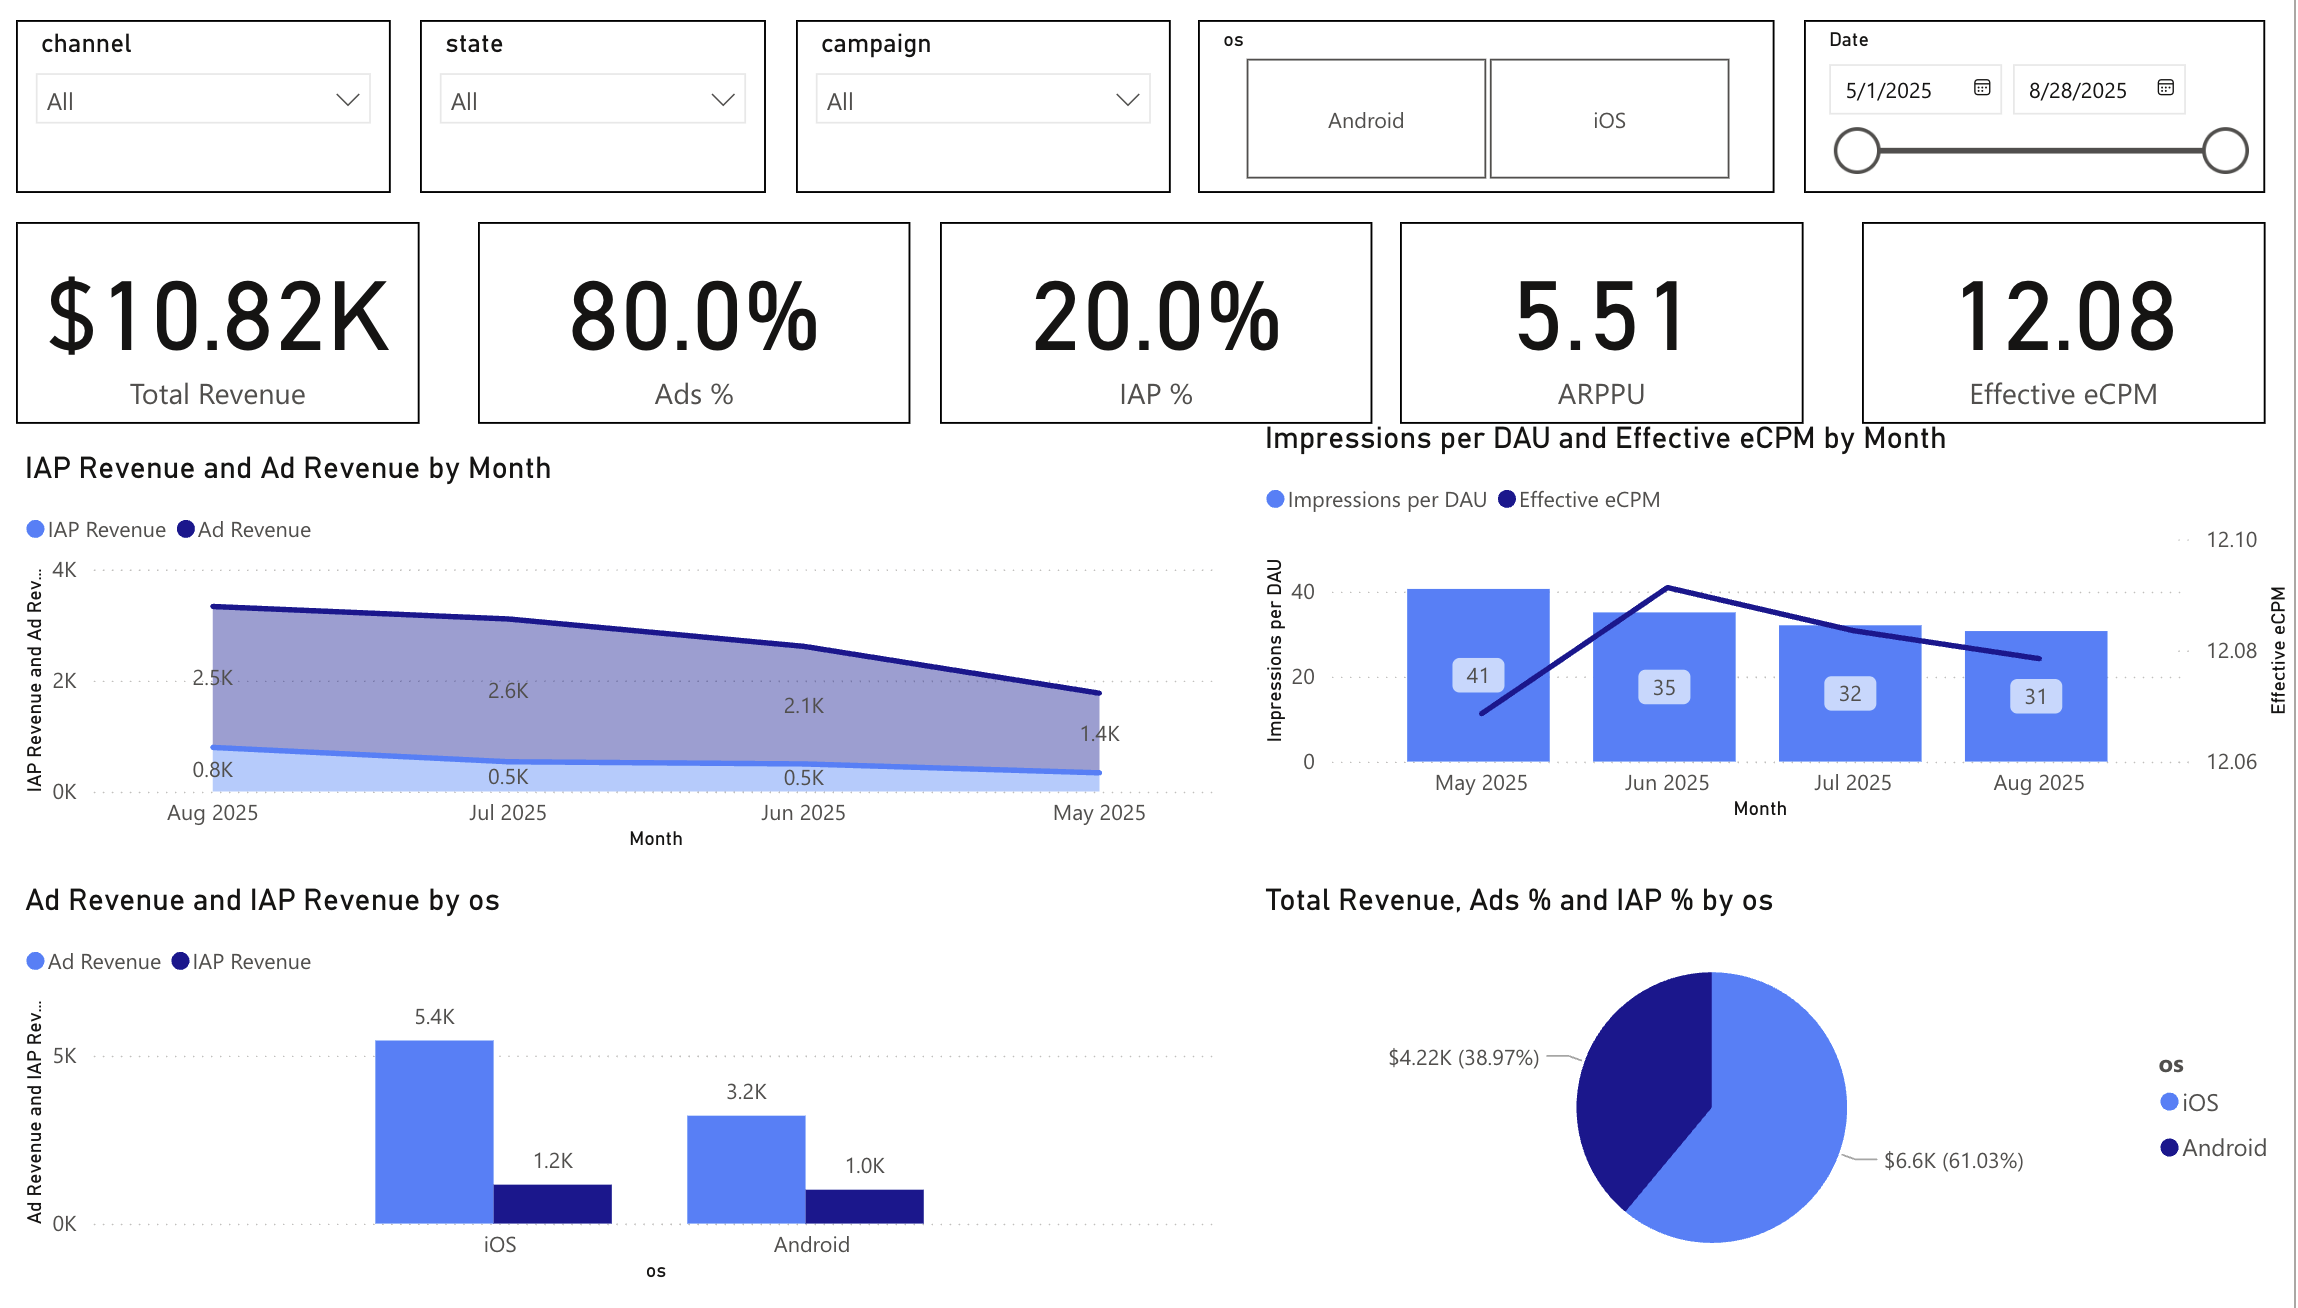

What the dashboard file says about the page in this screenshot:
{"tool":"powerbi","page":{"name":"Monetization","canvas":[1280,720],"ordinal":5},"visuals":[{"type":"slicer","fields":{"Values":["Date.Date"]},"box":[1008,16,256,96],"z":0},{"type":"slicer","fields":{"Values":["users.os"]},"box":[672,16,320,96],"z":1000},{"type":"slicer","fields":{"Values":["users.state"]},"box":[240,16,192,96],"z":2000},{"type":"slicer","fields":{"Values":["users.channel"]},"box":[16,16,208,96],"z":3000},{"type":"slicer","fields":{"Values":["users.campaign"]},"box":[448,16,208,96],"z":4000},{"type":"card","fields":{"Values":["measure.Total Revenue"]},"box":[16,128,224,112],"z":5000},{"type":"stackedAreaChart","fields":{"Y":["measure.IAP Revenue","measure.Ad Revenue"],"Category":["Date.Month"]},"box":[16,256,672,224],"z":6000},{"type":"clusteredColumnChart","fields":{"Category":["users.os"],"Y":["measure.Ad Revenue","measure.IAP Revenue"]},"box":[16,496,672,224],"z":7000},{"type":"lineStackedColumnComboChart","fields":{"Y":["measure.Impressions per DAU"],"Category":["Date.Month"],"Y2":["measure.Effective eCPM"]},"box":[704,240,576,224],"z":8000},{"type":"card","fields":{"Values":["measure.Ads %"]},"box":[272,128,240,112],"z":9000},{"type":"card","fields":{"Values":["measure.IAP %"]},"box":[528,128,240,112],"z":10000},{"type":"card","fields":{"Values":["measure.ARPPU"]},"box":[784,128,224,112],"z":11000},{"type":"card","fields":{"Values":["measure.Effective eCPM"]},"box":[1040,128,224,112],"z":12000},{"type":"pieChart","fields":{"Y":["measure.Total Revenue"],"Category":["users.os"]},"box":[704,496,576,224],"z":12001}]}

Visuals, with their boxes in screenshot pixels (x1, y1, x2, y2), scaled from the page's 1280x720 canvas onto the 2298x1308 screenshot:
slicer - Date.Date: bbox=[1810, 29, 2269, 203]
slicer - users.os: bbox=[1206, 29, 1781, 203]
slicer - users.state: bbox=[431, 29, 776, 203]
slicer - users.channel: bbox=[29, 29, 402, 203]
slicer - users.campaign: bbox=[804, 29, 1178, 203]
card - measure.Total Revenue: bbox=[29, 233, 431, 436]
stackedAreaChart - measure.IAP Revenue x measure.Ad Revenue: bbox=[29, 465, 1235, 872]
clusteredColumnChart - users.os x measure.Ad Revenue: bbox=[29, 901, 1235, 1307]
lineStackedColumnComboChart - measure.Impressions per DAU x Date.Month: bbox=[1264, 436, 2297, 843]
card - measure.Ads %: bbox=[488, 233, 919, 436]
card - measure.IAP %: bbox=[948, 233, 1379, 436]
card - measure.ARPPU: bbox=[1408, 233, 1810, 436]
card - measure.Effective eCPM: bbox=[1867, 233, 2269, 436]
pieChart - measure.Total Revenue x users.os: bbox=[1264, 901, 2297, 1307]
